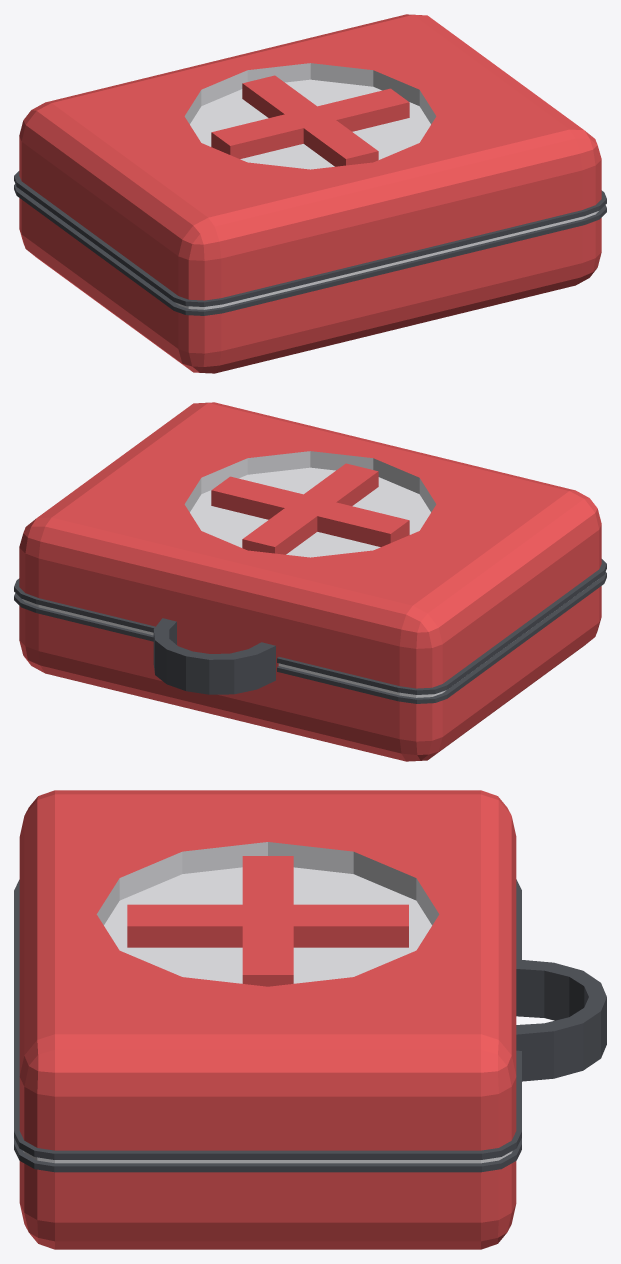
Rendered from aid_kit.fbx.
3 views of the same model, one above another, from view 1: azimuth 30°, elevation 25°; view 2: azimuth 150°, elevation 25°; view 3: azimuth 270°, elevation 25° (orthographic). The views are drawn at different scales.
Parts seen in each view (by area): view 1: Mesh; view 2: Mesh; view 3: Mesh.
Part boxes in pixels (x1=…): Mesh: x1=14, y1=14, x2=606, y2=373; Mesh: x1=14, y1=402, x2=606, y2=761; Mesh: x1=14, y1=790, x2=606, y2=1249.
Bounding box in the file's own units: 0.8801 × 0.3035 × 0.7718.
